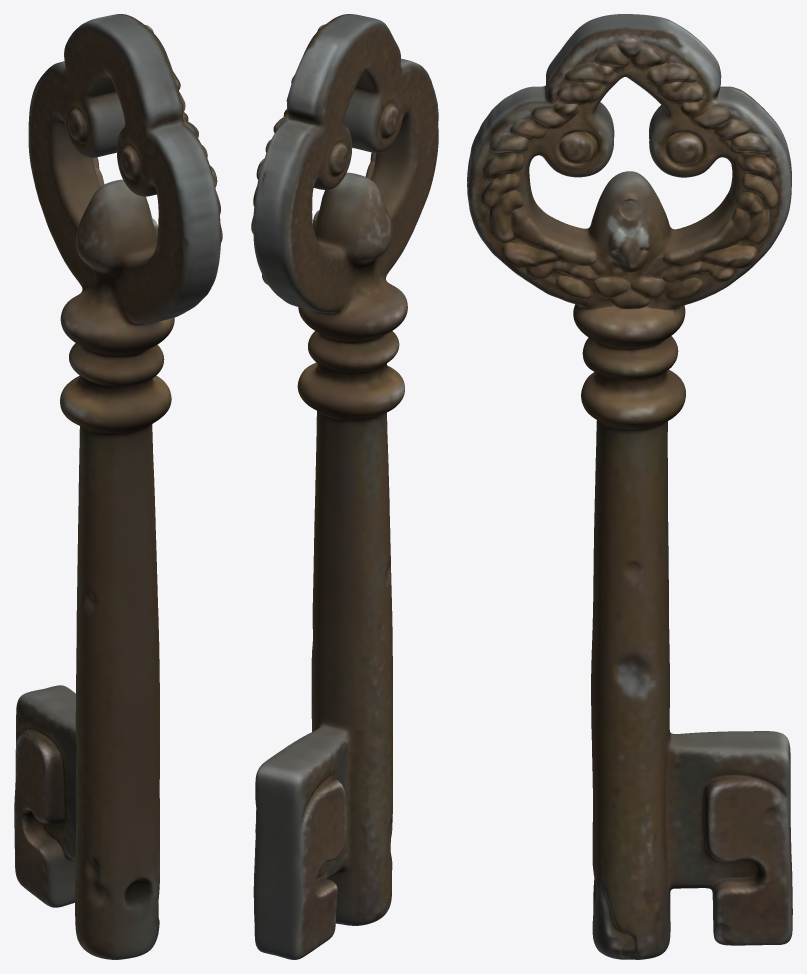
Rendered from Key2.fbx.
3 renders of one model, left to right at view 1: azimuth 30°, elevation 25°; view 2: azimuth 150°, elevation 25°; view 3: azimuth 270°, elevation 25°, orthographic. The views are drawn at different scales.
Visible parts, largest first — view 1: tripo_node_c6a790f1.002; view 2: tripo_node_c6a790f1.002; view 3: tripo_node_c6a790f1.002.
Boxes of the visible parts, box(x1,y1,x2,y2) form: tripo_node_c6a790f1.002: box(14, 14, 222, 959); tripo_node_c6a790f1.002: box(251, 14, 438, 959); tripo_node_c6a790f1.002: box(467, 14, 792, 959).
Size of the model in its own units: 5.66 by 50.63 by 16.07.
1 material, 1 textured.
